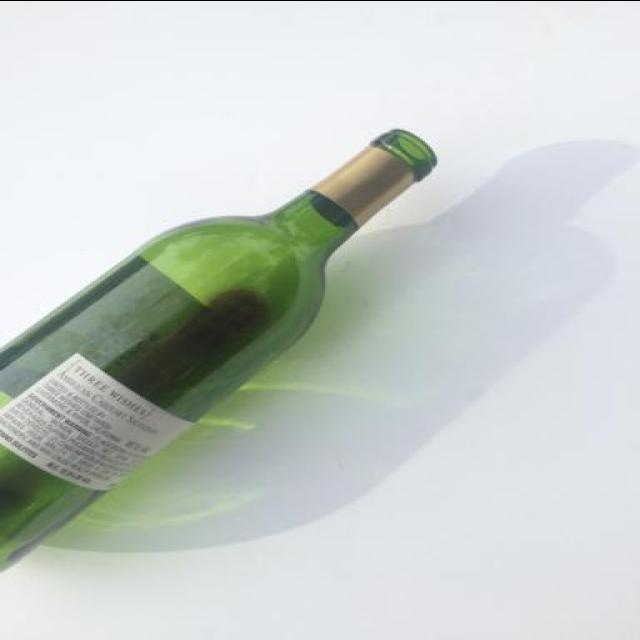glass: (0, 128, 439, 570)
